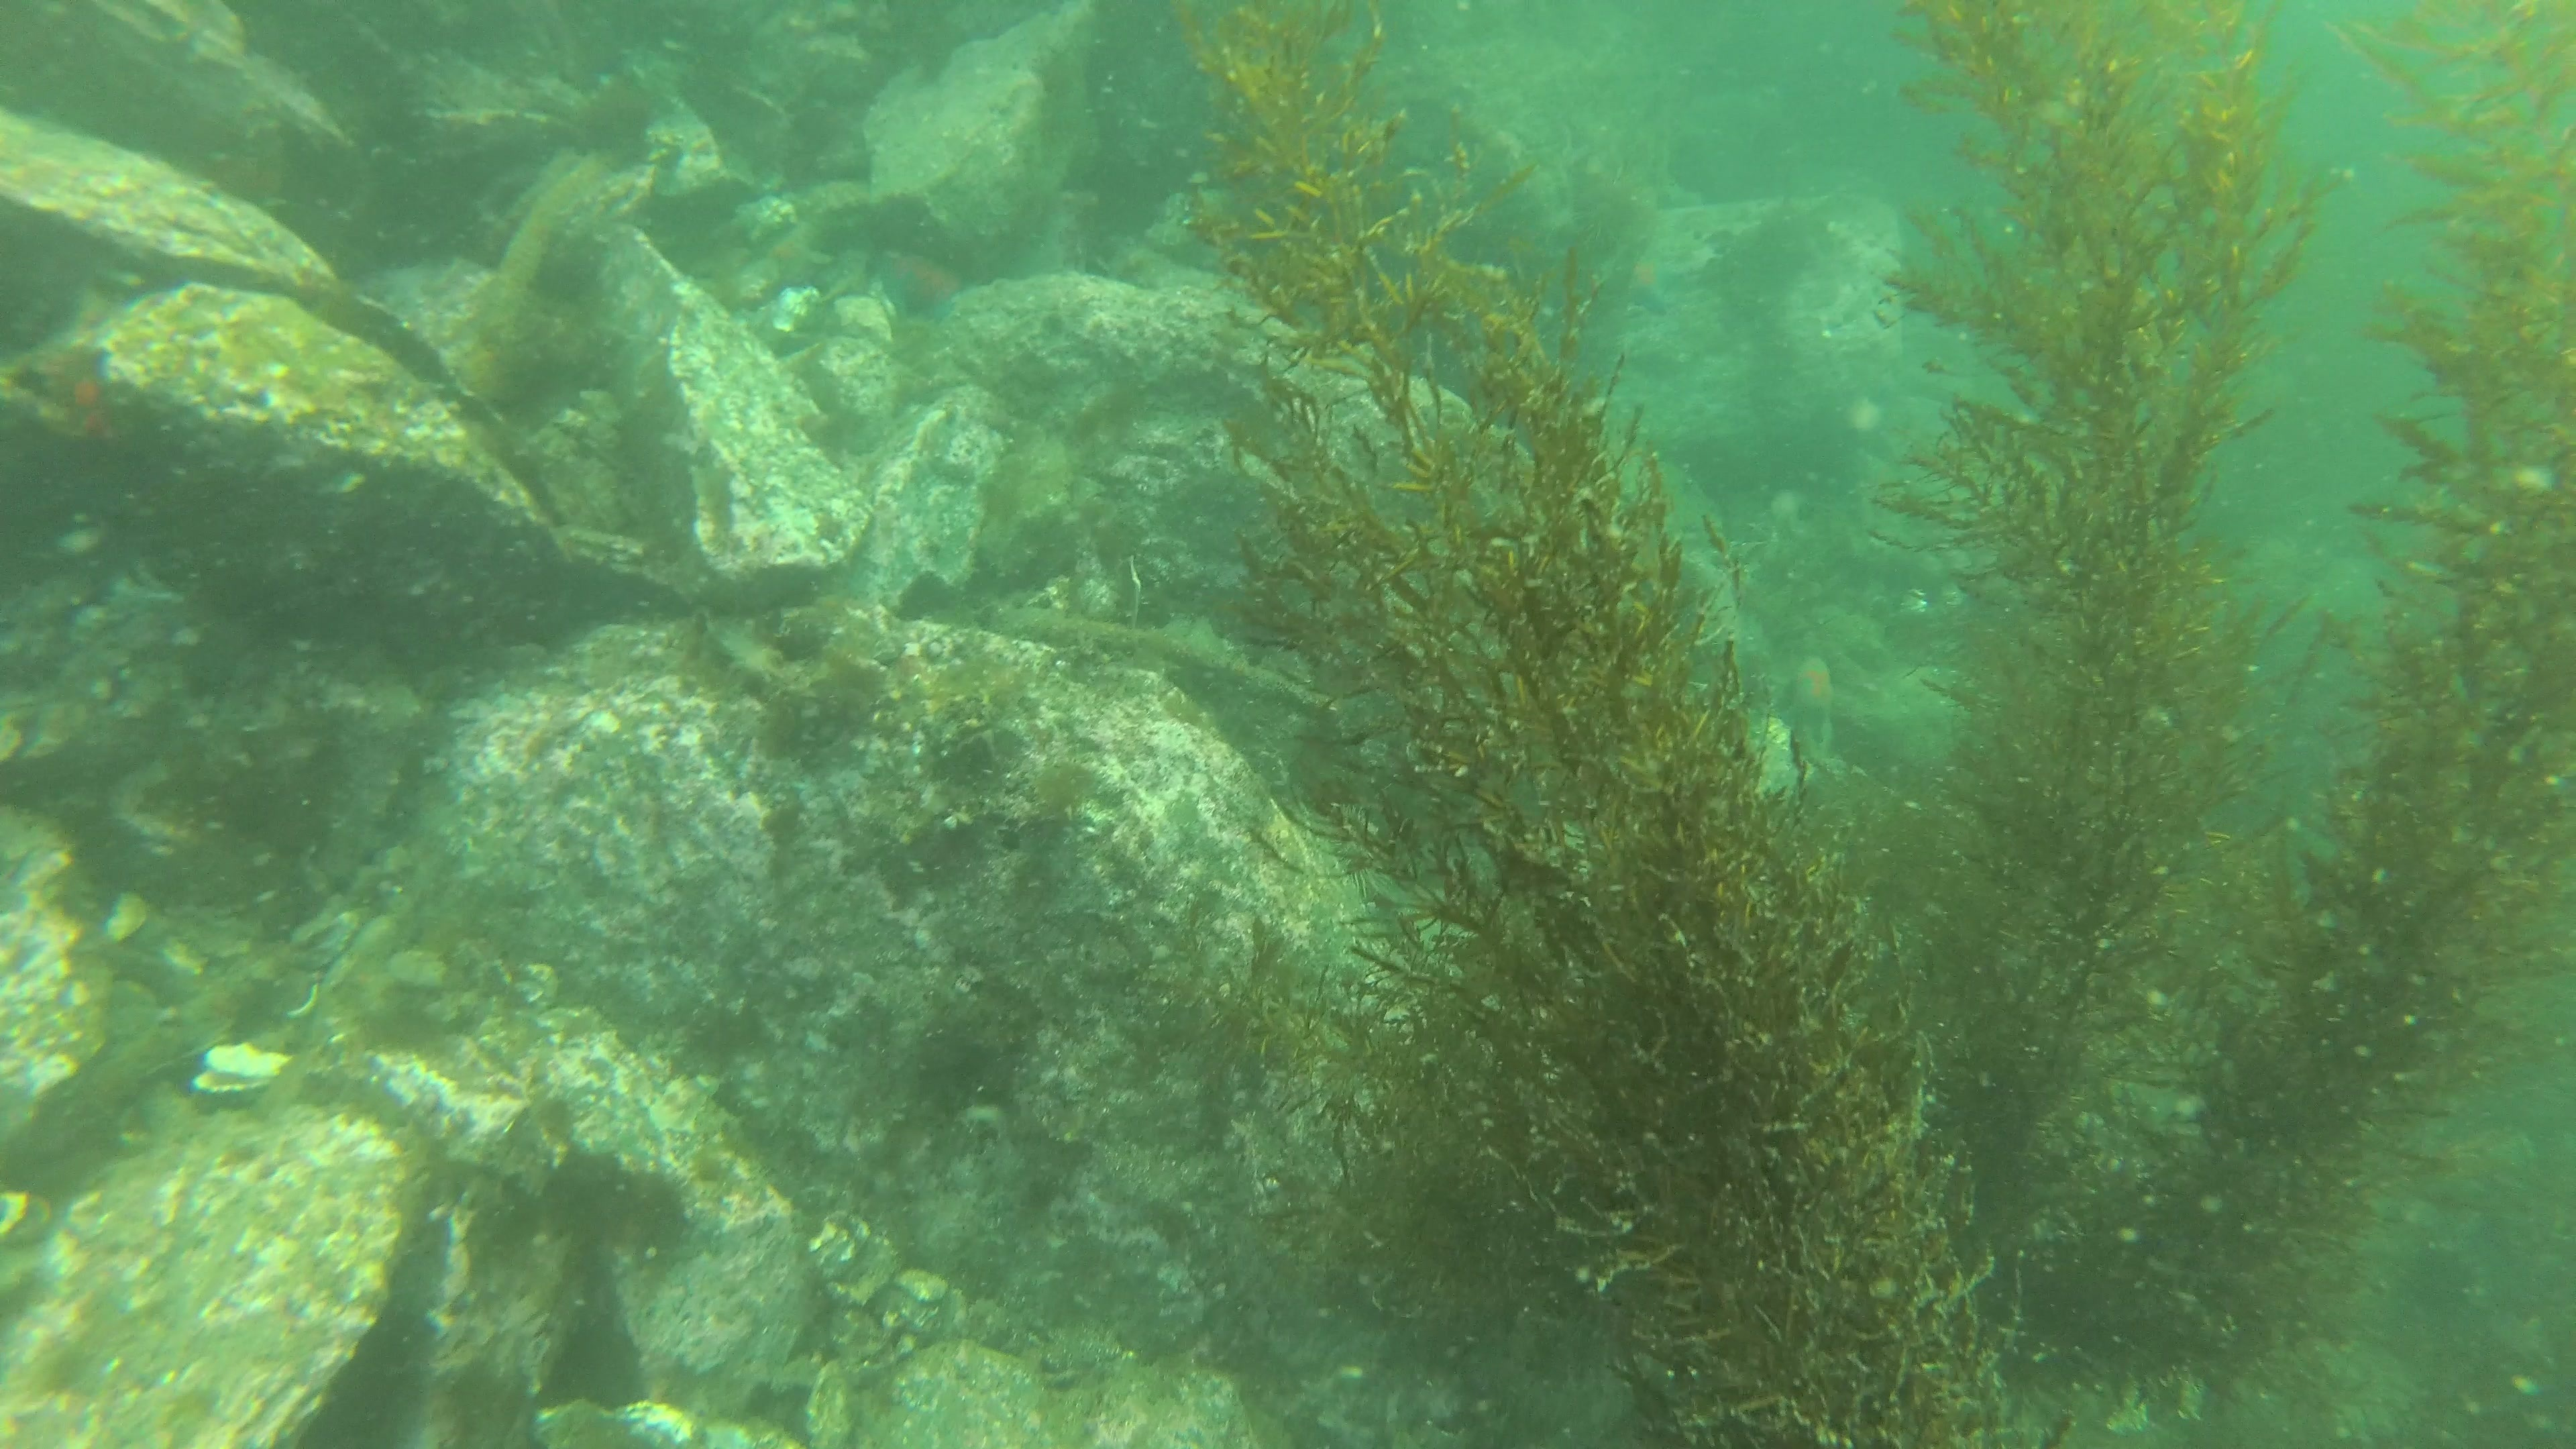scallop: (186, 1039, 283, 1102)
starfish: (1760, 635, 1854, 754), (863, 237, 973, 327)
